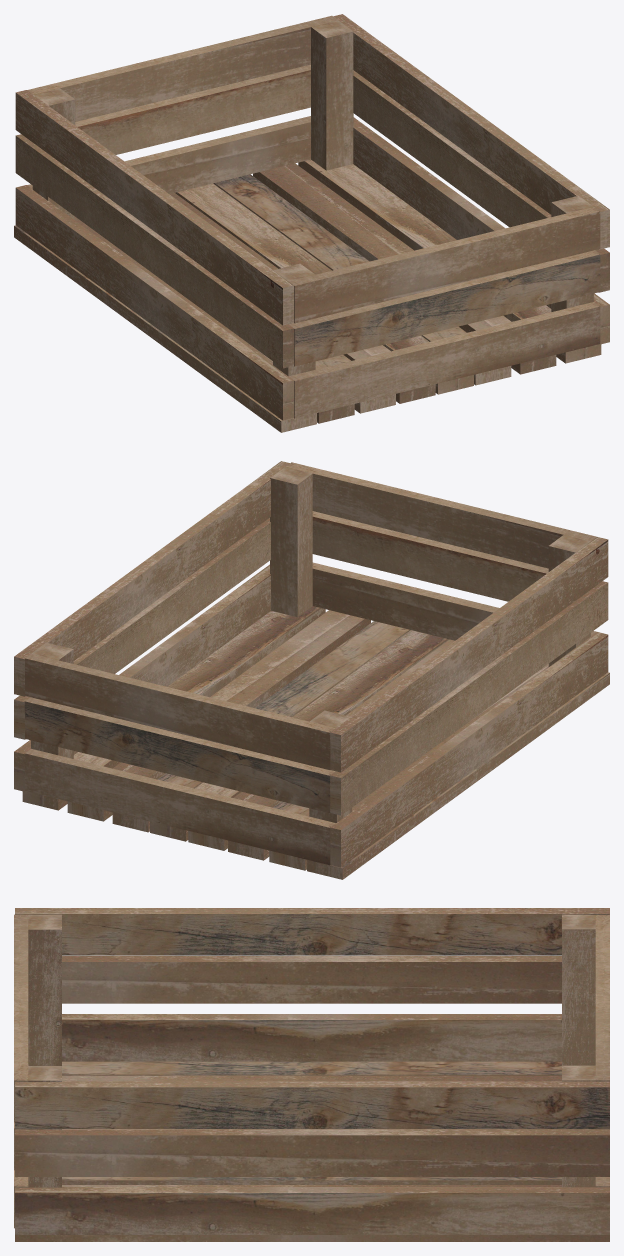
Rendered from cajonMadera.fbx.
3 views of the same model, one above another, from view 1: azimuth 30°, elevation 25°; view 2: azimuth 150°, elevation 25°; view 3: azimuth 270°, elevation 25° (orthographic). The views are drawn at different scales.
Visible parts, largest first — view 1: cajonMadera; view 2: cajonMadera; view 3: cajonMadera.
Boxes of the visible parts, left/top/right/bottom form: cajonMadera: left=14, top=14, right=609, bottom=432; cajonMadera: left=14, top=461, right=609, bottom=879; cajonMadera: left=14, top=908, right=609, bottom=1241.
Bounding box in the file's own units: 29.51 × 12.39 × 41.62.
